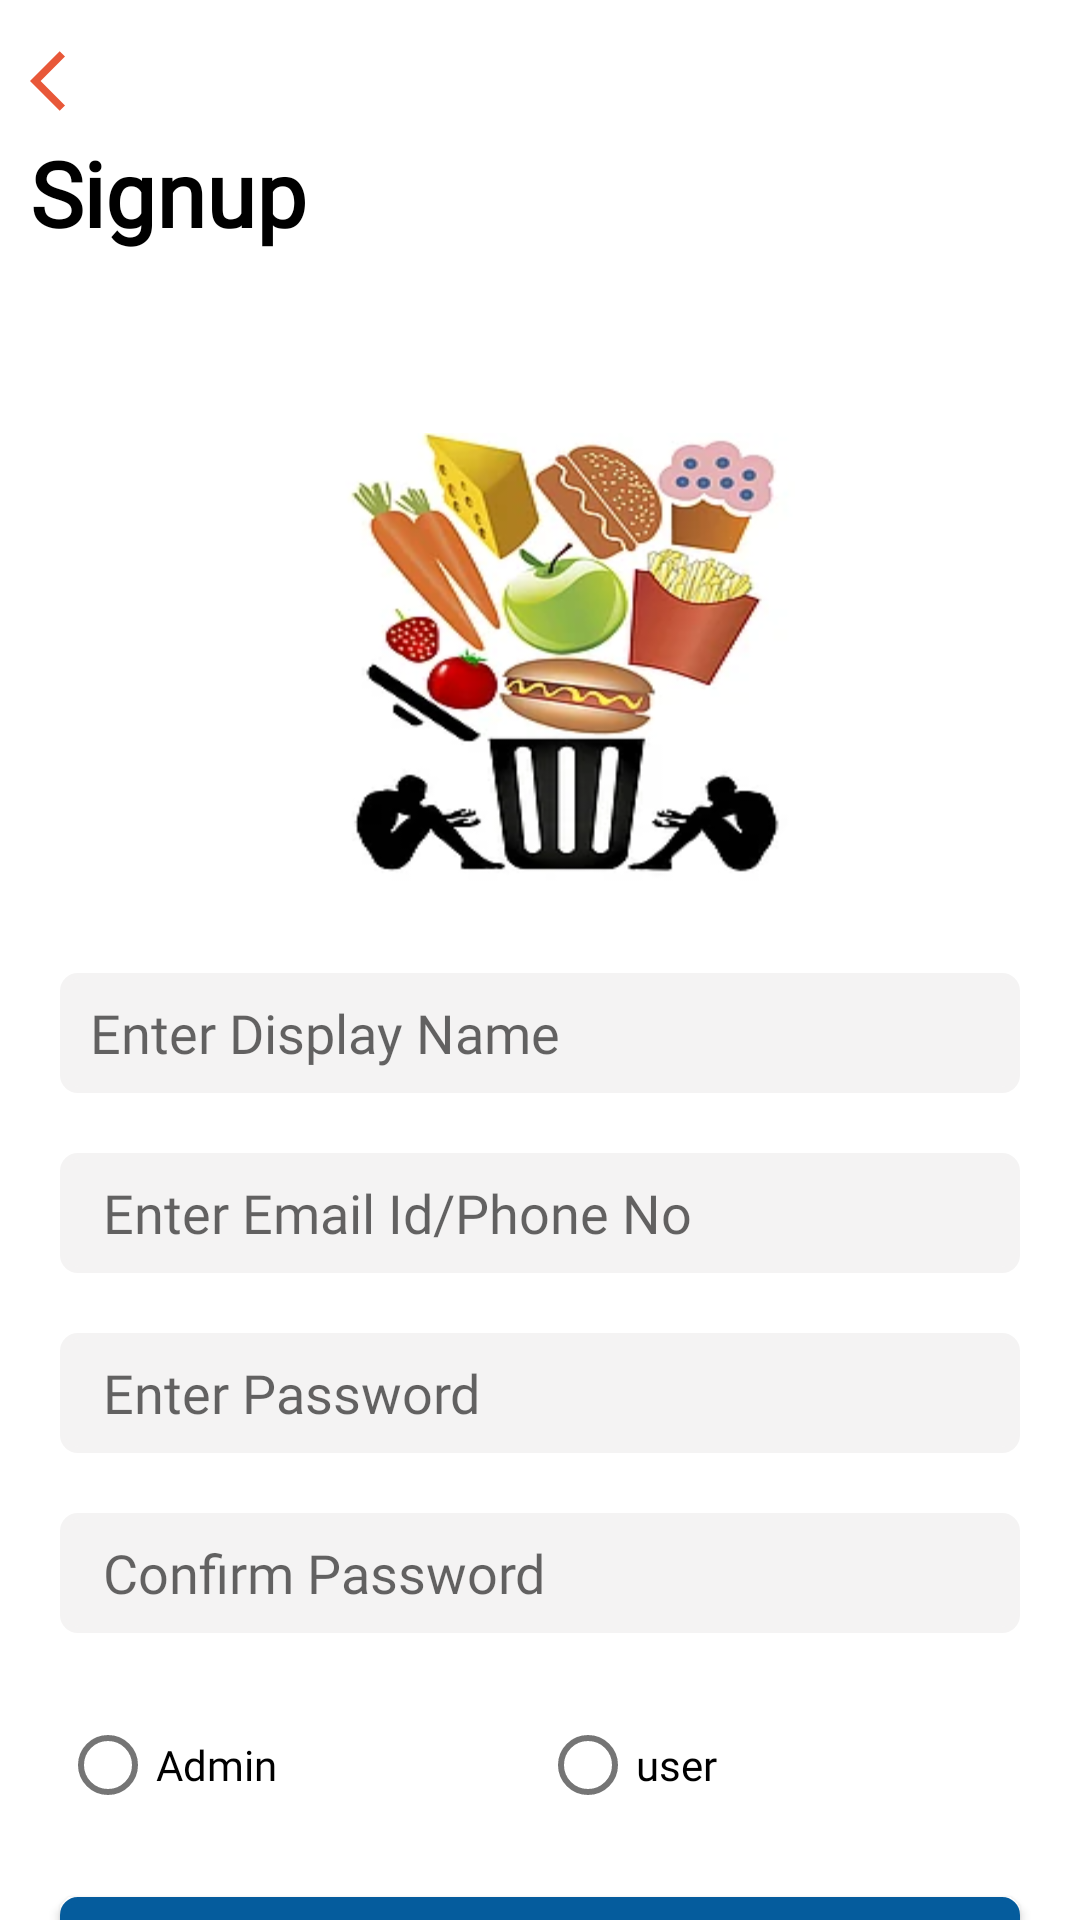

Icon click points for this 1080x1920 phone screenshot, format (x=x, y=y):
arrow back: (x=47, y=81)
